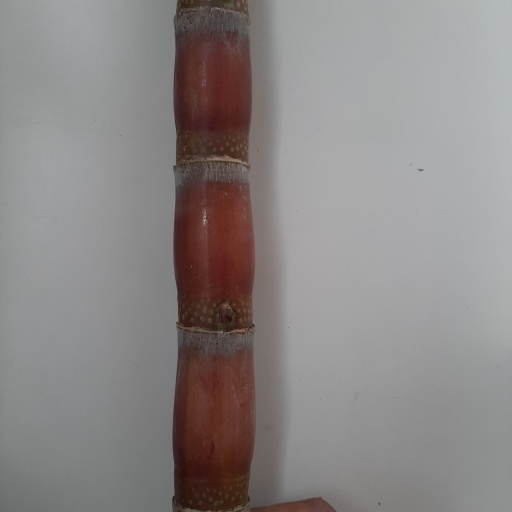Bud: (218, 303, 236, 325)
